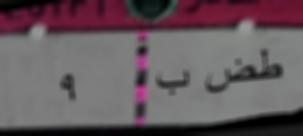9: (54, 64, 88, 106)
Taa: (259, 42, 287, 82)
baa: (154, 63, 195, 99)
daad: (204, 54, 255, 102)
